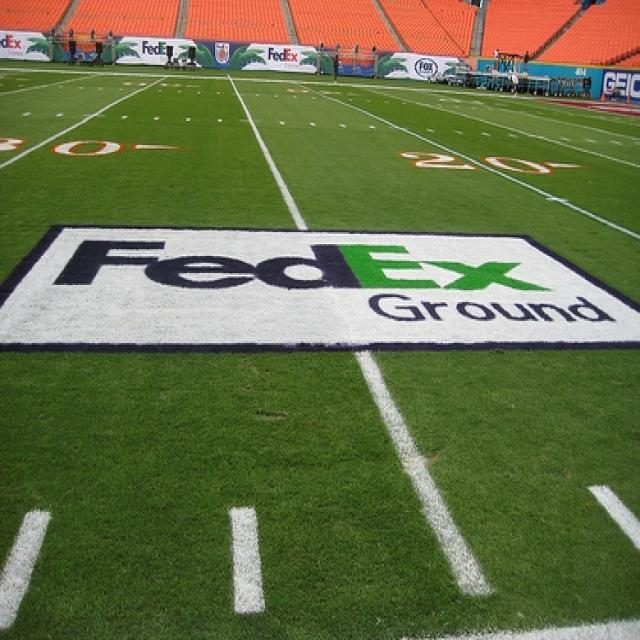fedex: (49, 231, 556, 303)
